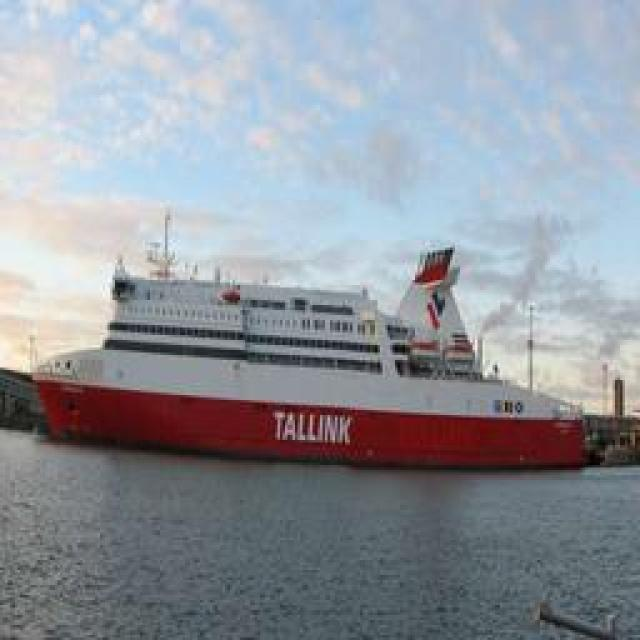CIV_Ship: (30, 248, 592, 462)
